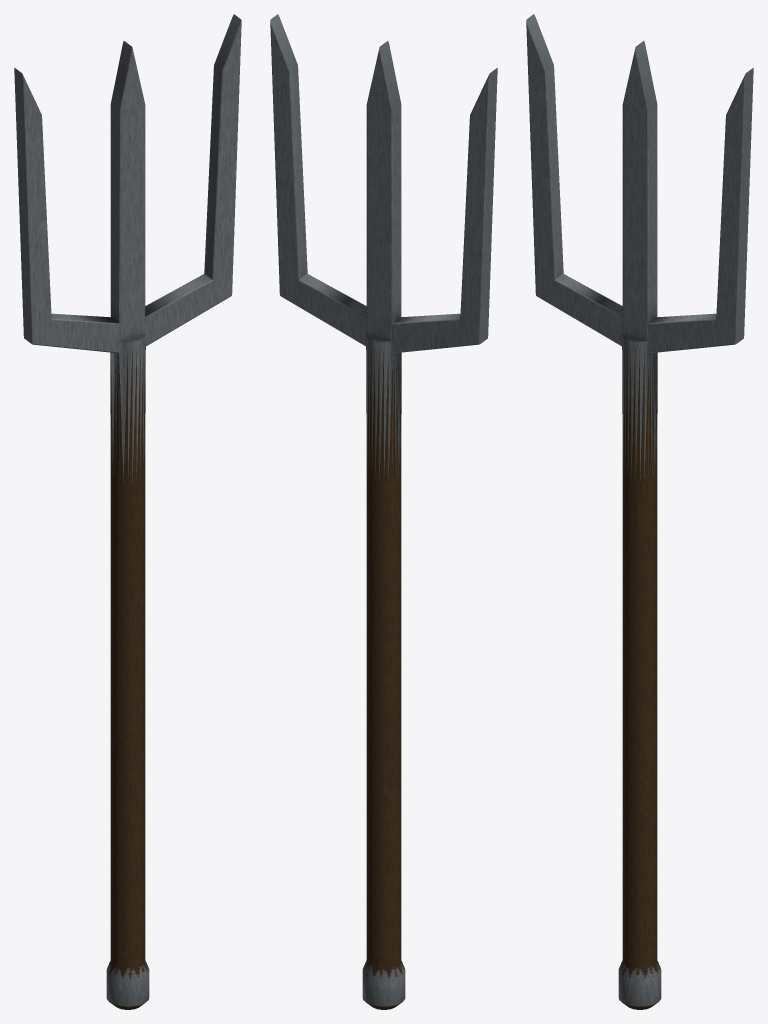
Rendered from trident-plain.glb.
3 views of the same model, side by side, from view 1: azimuth 30°, elevation 25°; view 2: azimuth 150°, elevation 25°; view 3: azimuth 330°, elevation 25° (orthographic).
Visible parts, largest first — view 1: trident-plain; view 2: trident-plain; view 3: trident-plain.
Part boxes in pixels (x1,y1,x2,y2): trident-plain: (14,14,241,1009); trident-plain: (270,14,497,1009); trident-plain: (526,14,753,1009).
Bounding box in the file's own units: 0.3399 × 1.42 × 0.058.
1 material, 1 textured.
